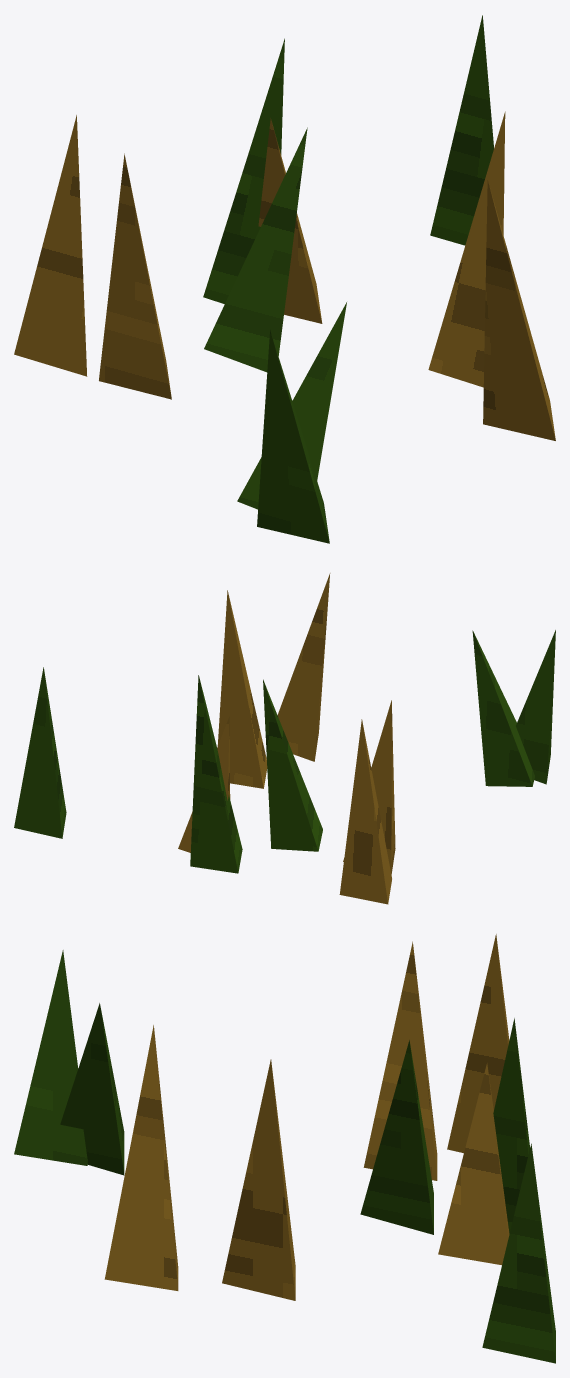
The model's file is hierba_alta.glb.
The picture shows the model from 3 angles, top to bottom: view 1: azimuth 30°, elevation 25°; view 2: azimuth 150°, elevation 25°; view 3: azimuth 270°, elevation 25°; orthographic projection. The views are drawn at different scales.
Parts seen in each view (by area): view 1: hierba_2, hierba; view 2: hierba, hierba_2; view 3: hierba_2, hierba.
Part boxes in pixels (x1,y1,x2,y2): hierba_2: [14, 111, 555, 440]; hierba: [203, 15, 493, 543]; hierba: [14, 630, 555, 873]; hierba_2: [178, 573, 395, 904]; hierba_2: [104, 934, 509, 1300]; hierba: [14, 950, 555, 1363].
Size of the model in its own units: 2 by 1 by 2.
Materials: 1 (1 with a texture image).
